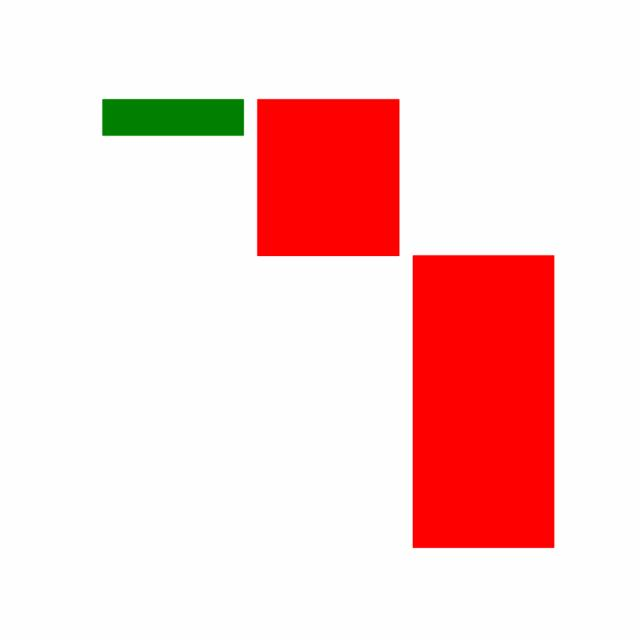Marubozu: (249, 97, 406, 257)
